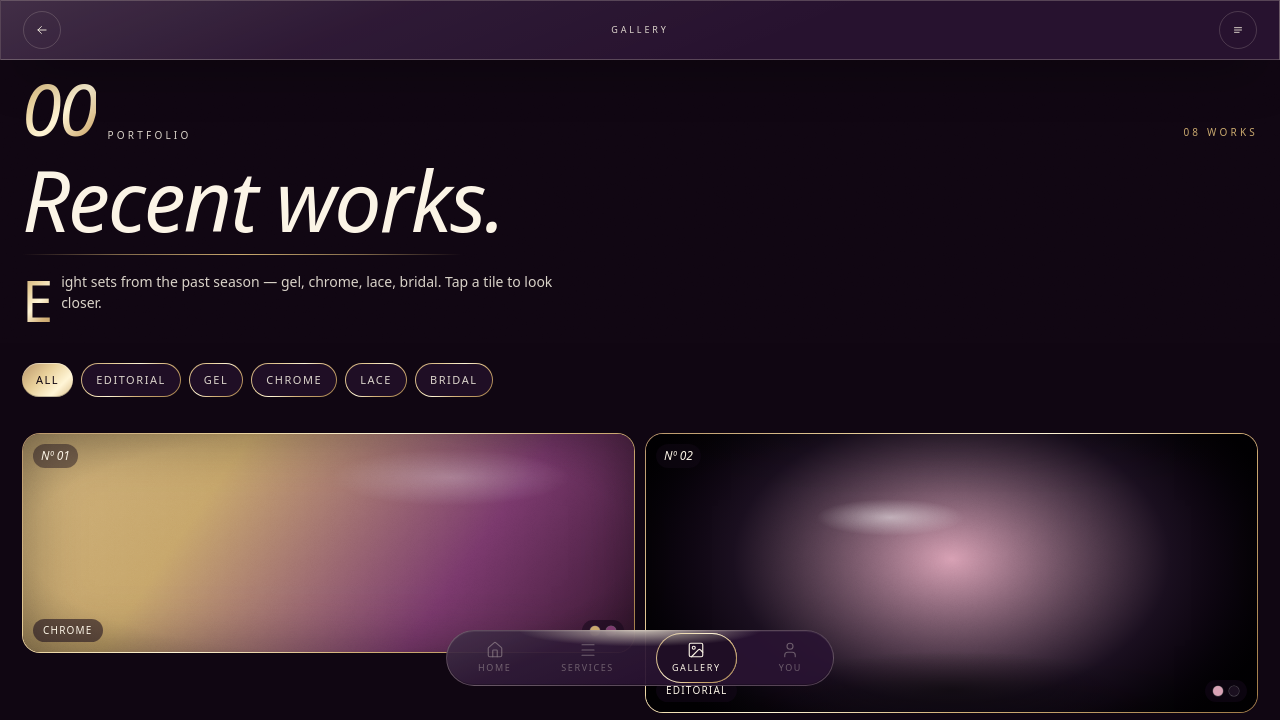
Test case: GalleryPage › opens a lightbox dialog when a card is clicked
Click the button named "Chrome" at (328, 543), box left=23, top=434, right=634, bottom=652
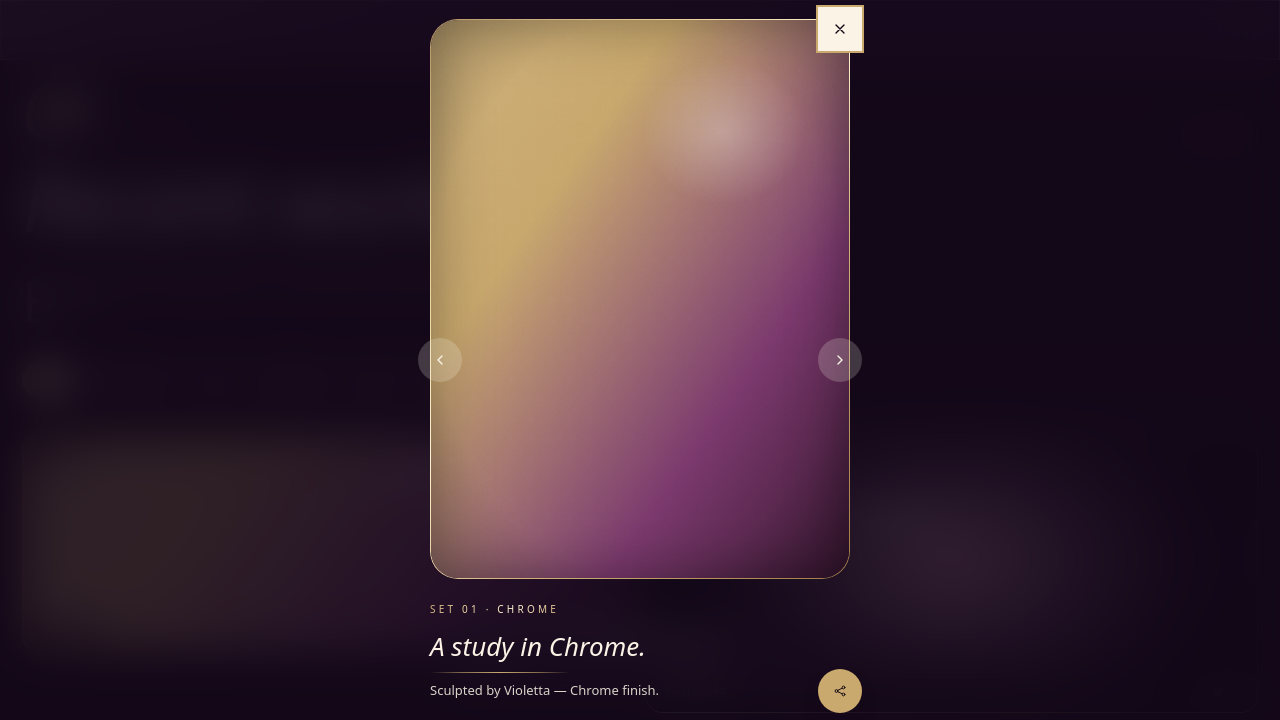
Check: the dialog is shown
Check: the text "Set 01 · Chrome" is shown, box left=430, top=602, right=559, bottom=616
Check: the button named "close" is shown, box left=818, top=7, right=862, bottom=51
